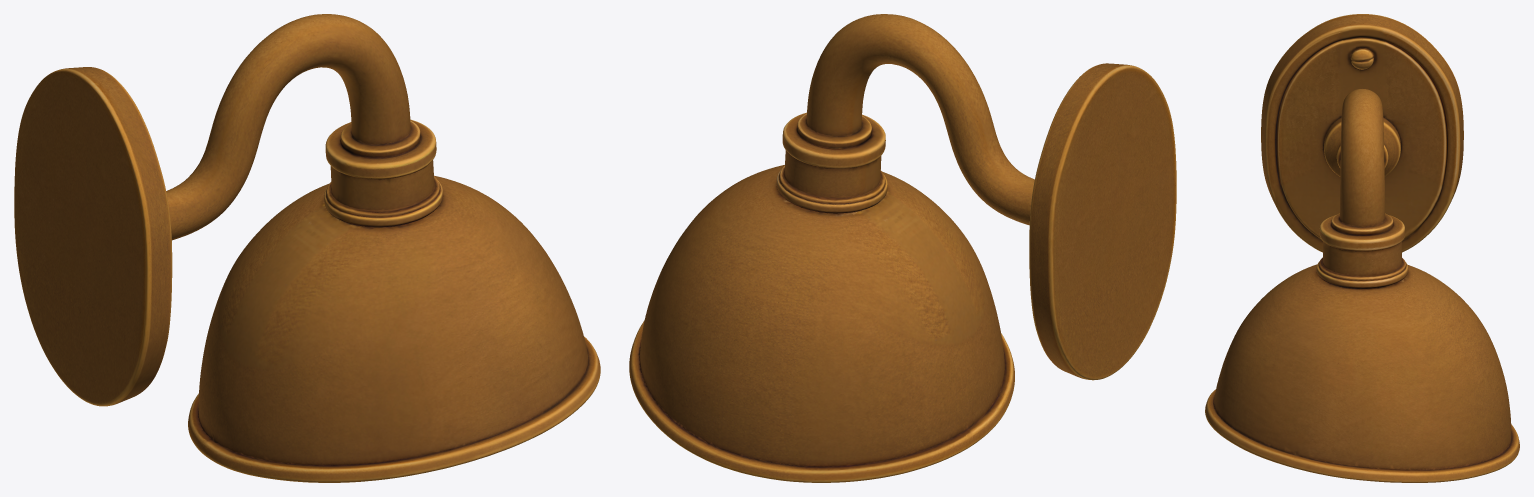
Rendered from 04 lampe laiton.glb.
The picture shows the model from 3 angles, left to right: view 1: azimuth 30°, elevation 25°; view 2: azimuth 150°, elevation 25°; view 3: azimuth 270°, elevation 25°; orthographic projection. The views are drawn at different scales.
Parts seen in each view (by area): view 1: tripo_node_d9c74717-9698-4835-b091-ba5265e7b9d4; view 2: tripo_node_d9c74717-9698-4835-b091-ba5265e7b9d4; view 3: tripo_node_d9c74717-9698-4835-b091-ba5265e7b9d4.
Boxes of the visible parts, left/top/right/bottom form: tripo_node_d9c74717-9698-4835-b091-ba5265e7b9d4: left=14, top=14, right=600, bottom=482; tripo_node_d9c74717-9698-4835-b091-ba5265e7b9d4: left=629, top=14, right=1176, bottom=482; tripo_node_d9c74717-9698-4835-b091-ba5265e7b9d4: left=1205, top=14, right=1519, bottom=482.
Size of the model in its own units: 0.9806 by 0.8163 by 0.713.
1 material, 1 textured.
